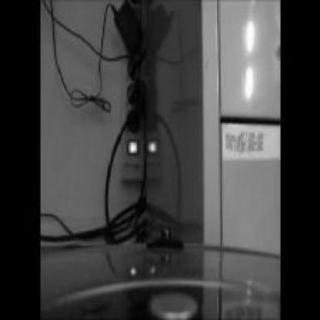other: (120, 260, 161, 278)
